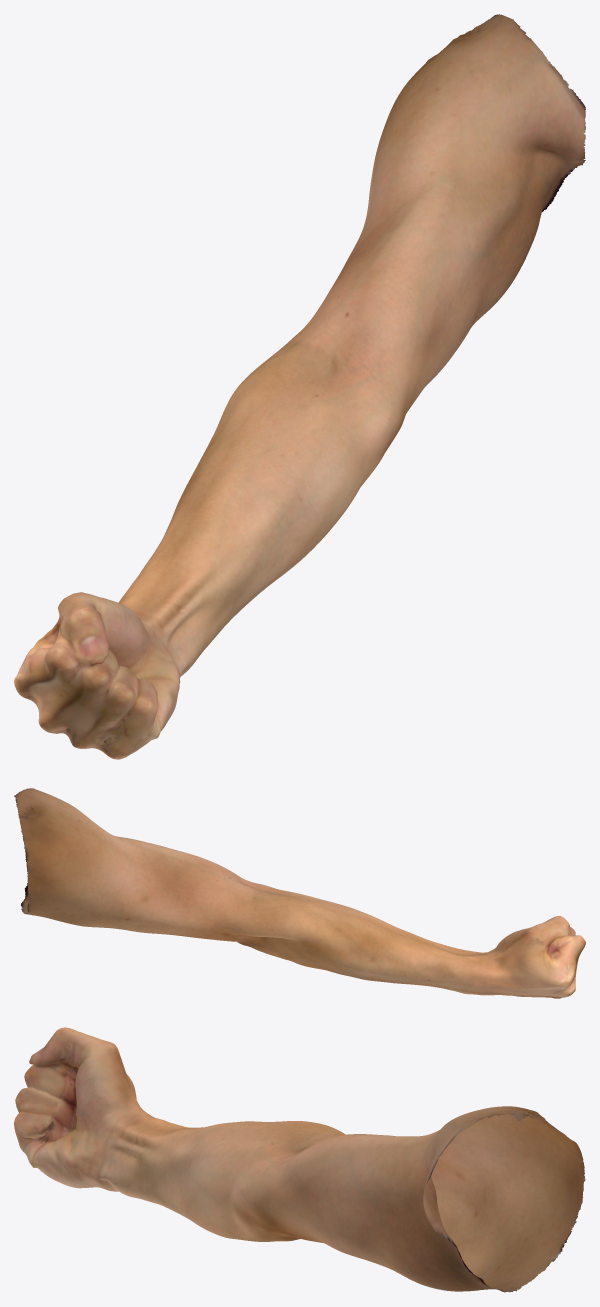
Rendered from arm.glb.
3 views of the same model, one above another, from view 1: azimuth 30°, elevation 25°; view 2: azimuth 150°, elevation 25°; view 3: azimuth 270°, elevation 25° (orthographic). The views are drawn at different scales.
Visible parts, largest first — view 1: Object_3, Object_4, Object_2, Object_5; view 2: Object_2, Object_3, Object_4, Object_5; view 3: Object_2, Object_4, Object_3, Object_5.
Boxes of the visible parts, x1,y1,x2,y2 form: Object_3: [113, 123, 510, 759]; Object_4: [14, 256, 450, 759]; Object_2: [344, 14, 585, 350]; Object_5: [255, 202, 475, 421]; Object_2: [14, 788, 214, 938]; Object_3: [103, 829, 526, 996]; Object_4: [184, 852, 585, 998]; Object_5: [141, 841, 314, 965]; Object_2: [304, 1106, 585, 1292]; Object_4: [14, 1027, 359, 1241]; Object_3: [45, 1097, 451, 1259]; Object_5: [257, 1130, 395, 1242].
Size of the model in its own units: 518 by 253 by 386.
Materials: 1 (1 with a texture image).
